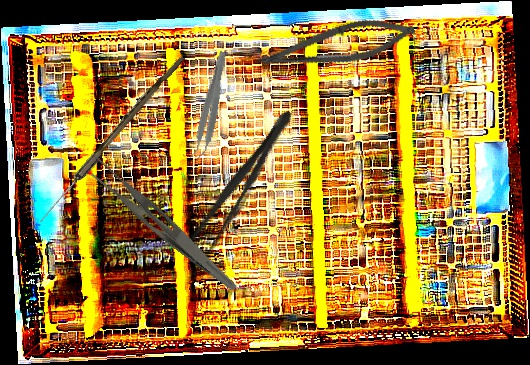Dressing Forceps: (77, 151, 251, 293), (173, 103, 302, 279)
Micro Scissor: (253, 5, 419, 88)
Surgical Spoon: (37, 52, 185, 226)
Tissue Forceps: (188, 49, 231, 162)
